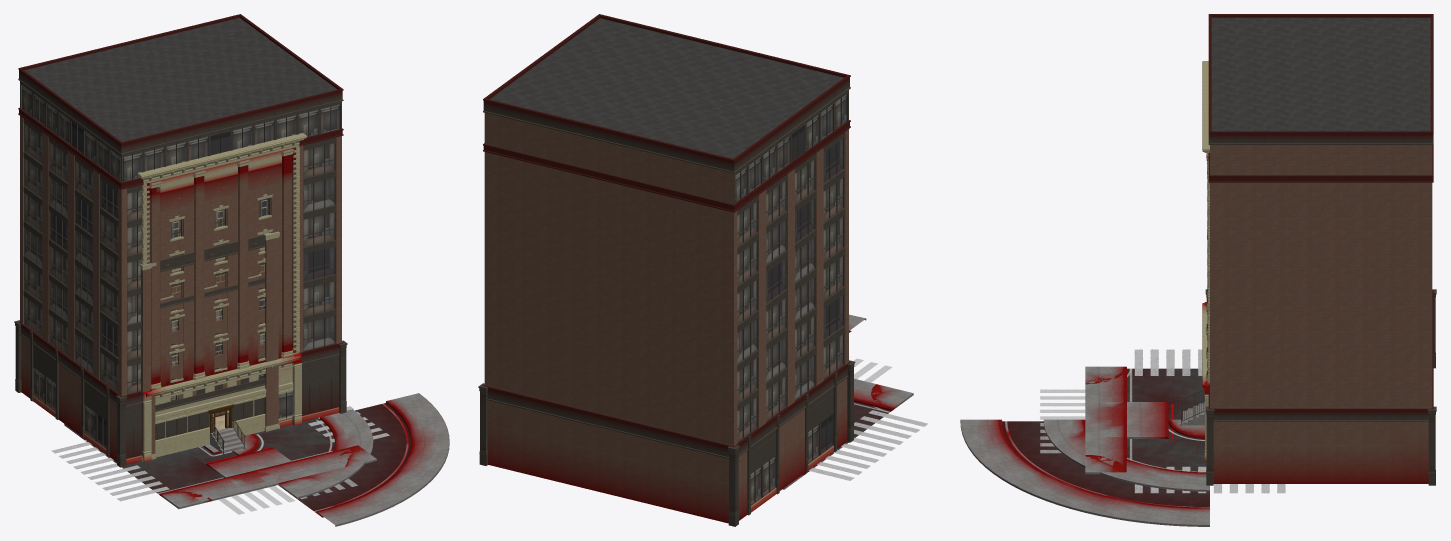
File: city.glb
The picture shows the model from 3 angles, left to right: view 1: azimuth 30°, elevation 25°; view 2: azimuth 150°, elevation 25°; view 3: azimuth 270°, elevation 25°; orthographic projection. The views are drawn at different scales.
Parts seen in each view (by area): view 1: Building_Large_2, Building_Medium_2.001, Building_Small_1, Street_4WayIntersection, Street_Curve_4LaneShort, Street_Asphalt_Curve_4Lane_Short, Street_TIntersection, Street_Curve_2Lane, Street_2Lane, Street_4Lane, Street_Asphalt_Curve_2Lane; view 2: Building_Large_2, Street_4WayIntersection, Street_TIntersection; view 3: Building_Large_2, Street_4WayIntersection, Street_Curve_4LaneShort, Street_Asphalt_Curve_4Lane_Short, Street_TIntersection, Street_Curve_2Lane, Building_Medium_2.001, Street_4Lane, Street_2Lane, Street_Asphalt_Curve_2Lane, Building_Small_1.
Part boxes in pixels (x1=…): Building_Large_2: x1=14, y1=14, x2=347, y2=467; Building_Medium_2.001: x1=137, y1=133, x2=306, y2=462; Building_Small_1: x1=140, y1=231, x2=279, y2=461; Street_4WayIntersection: x1=52, y1=406, x2=389, y2=514; Street_Curve_4LaneShort: x1=233, y1=393, x2=449, y2=526; Street_Asphalt_Curve_4Lane_Short: x1=256, y1=403, x2=411, y2=517; Street_TIntersection: x1=52, y1=407, x2=389, y2=501; Street_Curve_2Lane: x1=232, y1=409, x2=373, y2=498; Street_2Lane: x1=204, y1=447, x2=291, y2=477; Street_4Lane: x1=188, y1=438, x2=310, y2=491; Street_Asphalt_Curve_2Lane: x1=255, y1=419, x2=331, y2=460; Building_Large_2: x1=478, y1=14, x2=855, y2=526; Street_4WayIntersection: x1=782, y1=356, x2=927, y2=489; Street_TIntersection: x1=809, y1=378, x2=926, y2=480; Building_Large_2: x1=1205, y1=14, x2=1436, y2=485; Street_4WayIntersection: x1=1040, y1=349, x2=1285, y2=493; Street_Curve_4LaneShort: x1=960, y1=419, x2=1209, y2=526; Street_Asphalt_Curve_4Lane_Short: x1=1002, y1=421, x2=1209, y2=507; Street_TIntersection: x1=1085, y1=350, x2=1284, y2=492; Street_Curve_2Lane: x1=1043, y1=419, x2=1209, y2=491; Building_Medium_2.001: x1=1202, y1=61, x2=1209, y2=461; Street_4Lane: x1=1085, y1=402, x2=1202, y2=438; Street_2Lane: x1=1127, y1=402, x2=1198, y2=438; Street_Asphalt_Curve_2Lane: x1=1127, y1=439, x2=1204, y2=459; Building_Small_1: x1=1178, y1=163, x2=1207, y2=425.
Bounding box in the file's own units: 30.33 × 28.15 × 34.32.
13 materials, 12 textured.
